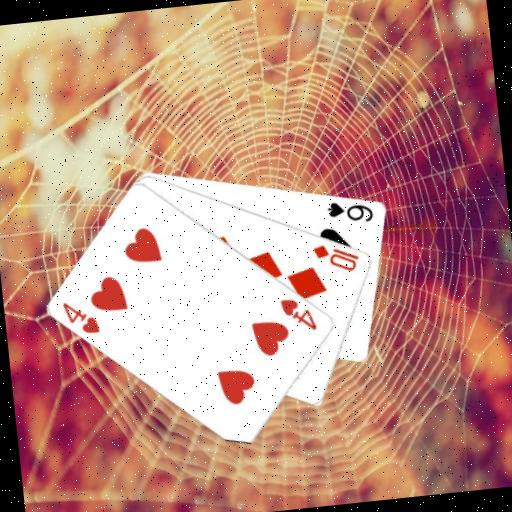10D: (310, 237, 362, 276)
4H: (59, 296, 103, 339), (277, 293, 320, 336)
6S: (324, 195, 377, 228)
